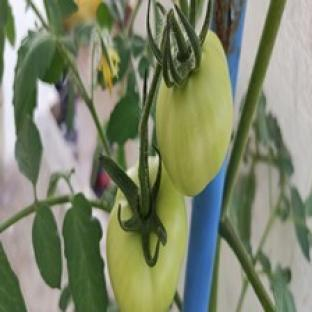Tomato: (156, 31, 232, 196), (106, 169, 186, 311)
